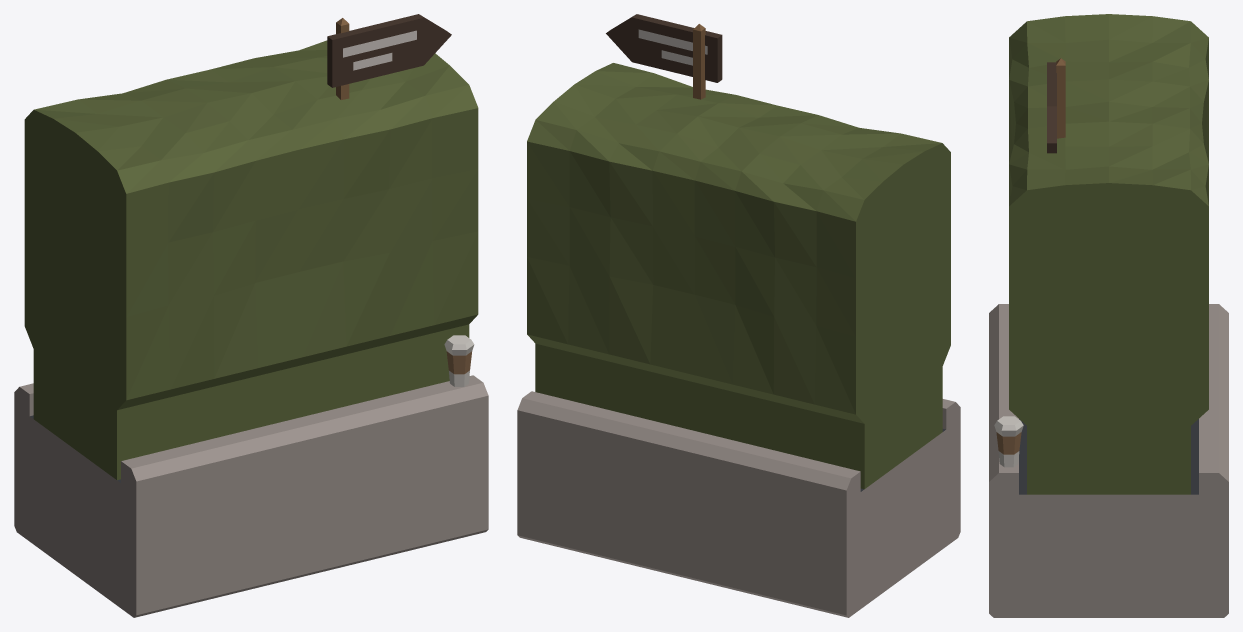
File: clipped-hedge-run-6b1e58.glb
3 views of the same model, side by side, from view 1: azimuth 30°, elevation 25°; view 2: azimuth 150°, elevation 25°; view 3: azimuth 270°, elevation 25° (orthographic). The views are drawn at different scales.
Visible parts, largest first — view 1: hedge-run, arrow-sign-mesh, coffee-cup-mesh; view 2: hedge-run, arrow-sign-mesh; view 3: hedge-run, arrow-sign-mesh, coffee-cup-mesh.
Part boxes in pixels (x1,y1,x2,y2): hedge-run: [14, 40, 488, 617]; arrow-sign-mesh: [327, 14, 451, 99]; coffee-cup-mesh: [444, 335, 474, 386]; hedge-run: [517, 63, 960, 617]; arrow-sign-mesh: [606, 14, 722, 99]; hedge-run: [989, 14, 1228, 617]; arrow-sign-mesh: [1047, 58, 1065, 153]; coffee-cup-mesh: [994, 416, 1023, 467].
Size of the model in its own units: 1 by 1.4 by 0.6.
